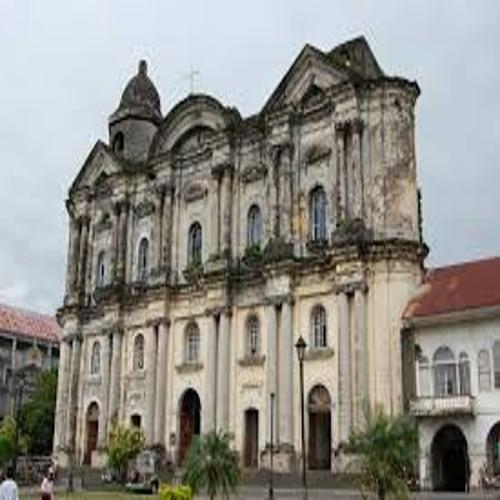Taal Basilica Church: (44, 27, 440, 477)
